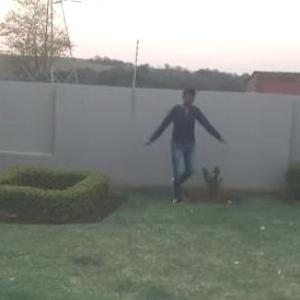land: (141, 90, 227, 209)
